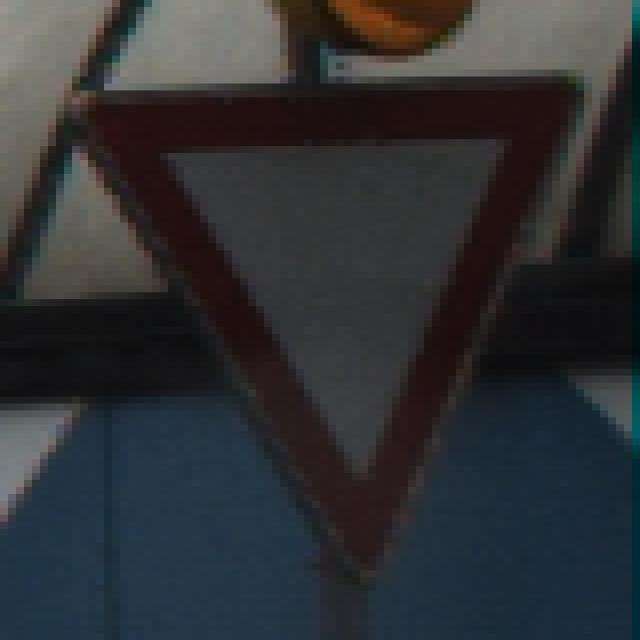give way: (56, 69, 593, 584)
